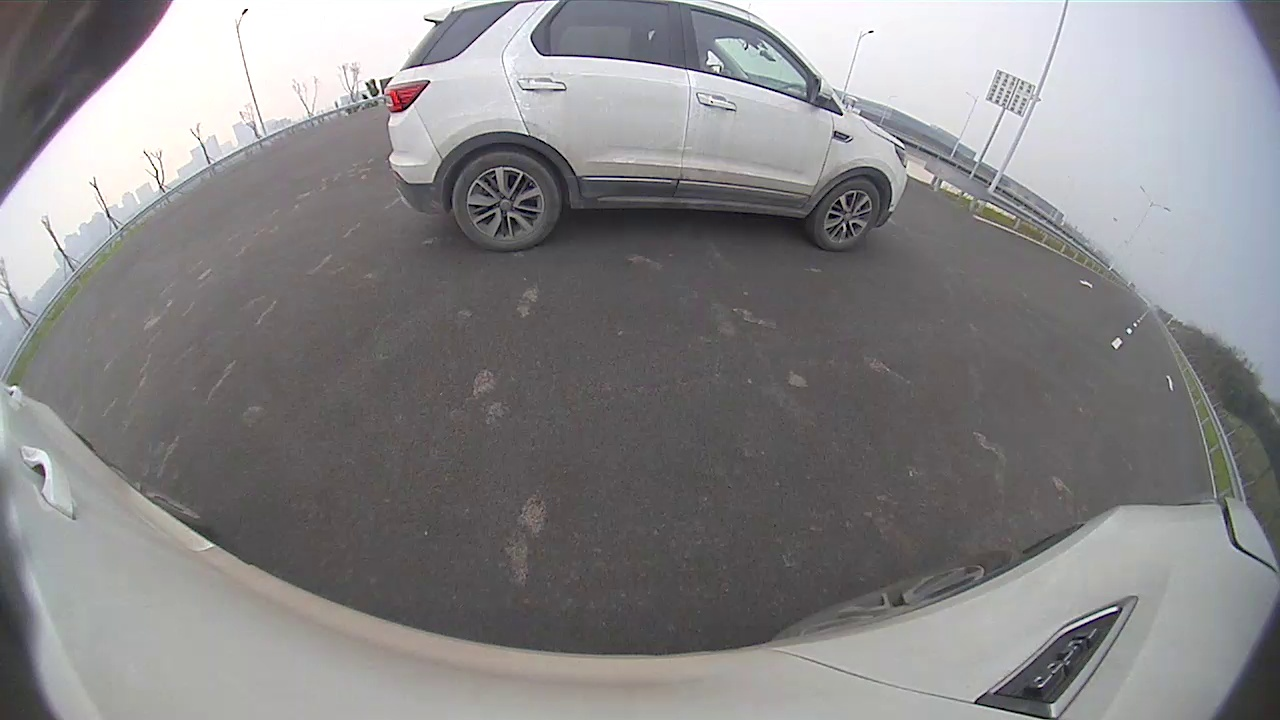car: (385, 1, 908, 251)
front: (814, 178, 882, 251)
rear: (456, 151, 562, 249)
